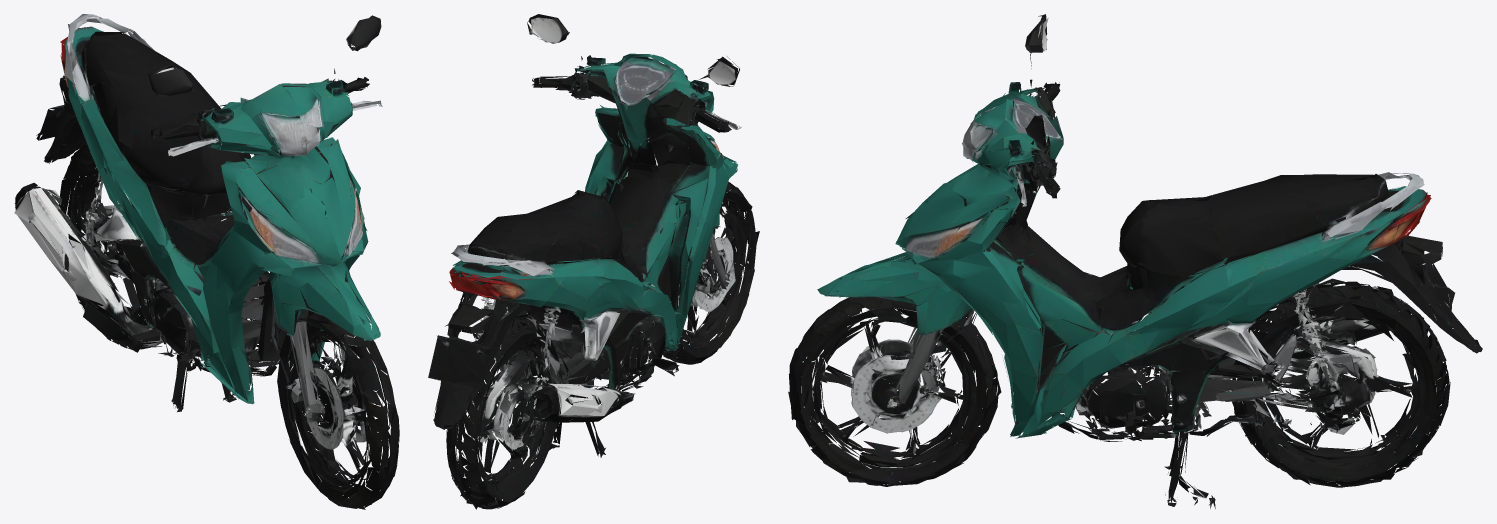
Rendered from wave.glb.
3 renders of one model, left to right at view 1: azimuth 30°, elevation 25°; view 2: azimuth 150°, elevation 25°; view 3: azimuth 270°, elevation 25°, orthographic. The views are drawn at different scales.
Visible parts, largest first — view 1: sc1_wave_a; view 2: sc1_wave_a; view 3: sc1_wave_a.
Part boxes in pixels (x1,y1,x2,y2): sc1_wave_a: (14,14,399,509); sc1_wave_a: (428,14,759,509); sc1_wave_a: (788,14,1482,508).
Size of the model in its own units: 0.7666 by 1.3 by 1.92.
Materials: 1 (1 with a texture image).
